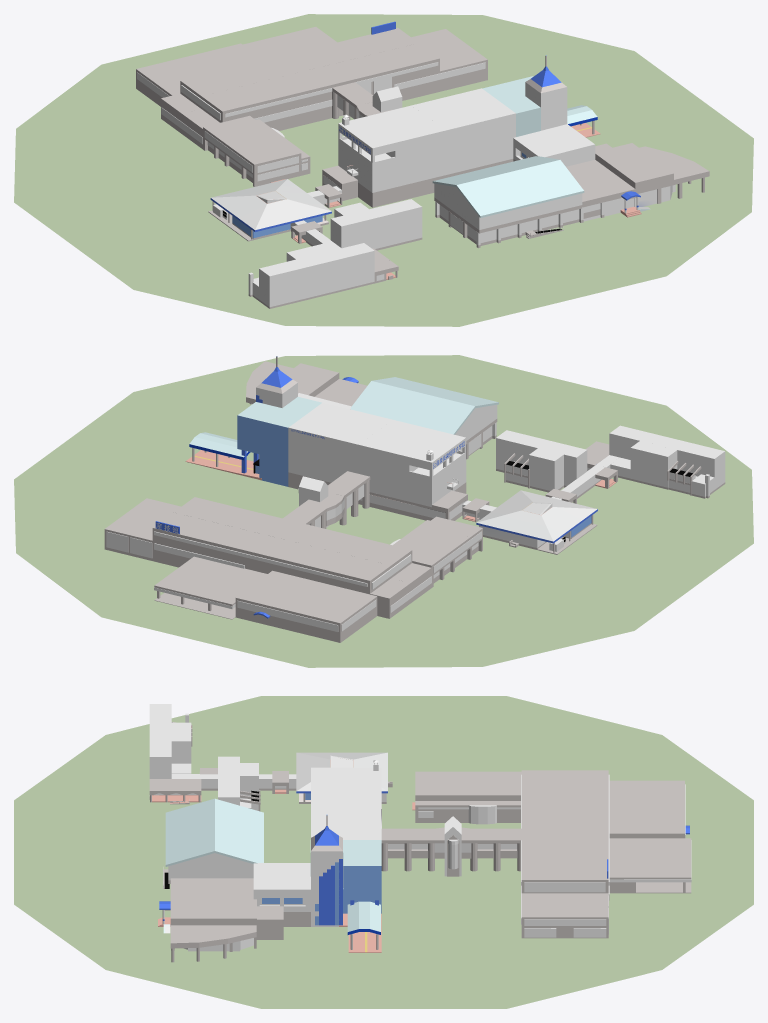
Rendered from sample_12_20.glb.
3 views of the same model, one above another, from view 1: azimuth 30°, elevation 25°; view 2: azimuth 150°, elevation 25°; view 3: azimuth 270°, elevation 25° (orthographic). The views are drawn at different scales.
Visible parts, largest first — view 1: 平面.006, 体育館屋根, 立方体.031, 学生寮・男子, 立方体, 立方体.001, 学生寮・女子, 立方体.027, 食堂・屋根・土台, 立方体.021, 本校舎2F・土台.001, 立方体.003 (+21 smaller); view 2: 平面.006, 立方体.003, 体育館屋根, 立方体.021, 立方体.002, 立方体.026, 本校者・紺の部分, 立方体, 学生寮・女子, 食堂・屋根・土台, 立方体.031, 立方体.001 (+25 smaller); view 3: 平面.006, 体育館屋根, 立方体.001, 立方体.003, 立方体.002, 立方体.018, 立方体.019, 立方体.027, 立方体.026, 大教室, 本校者・紺の部分, 立方体.031 (+25 smaller).
Part boxes in pixels (x1=…): 平面.006: x1=14, y1=14, x2=753, y2=326; 体育館屋根: x1=432, y1=156, x2=584, y2=217; 立方体.031: x1=182, y1=69, x2=332, y2=149; 学生寮・男子: x1=259, y1=243, x2=374, y2=308; 立方体: x1=338, y1=134, x2=445, y2=192; 立方体.001: x1=203, y1=115, x2=310, y2=186; 学生寮・女子: x1=330, y1=199, x2=422, y2=250; 立方体.027: x1=312, y1=43, x2=439, y2=116; 食堂・屋根・土台: x1=210, y1=179, x2=331, y2=231; 立方体.021: x1=161, y1=54, x2=310, y2=133; 本校舎2F・土台.001: x1=445, y1=113, x2=515, y2=174; 立方体.003: x1=136, y1=43, x2=263, y2=106; 平面.006: x1=14, y1=355, x2=753, y2=667; 立方体.003: x1=235, y1=570, x2=377, y2=642; 体育館屋根: x1=350, y1=377, x2=498, y2=434; 立方体.021: x1=260, y1=538, x2=410, y2=618; 立方体.002: x1=154, y1=556, x2=267, y2=619; 立方体.026: x1=152, y1=512, x2=280, y2=571; 本校者・紺の部分: x1=237, y1=397, x2=321, y2=486; 立方体: x1=358, y1=448, x2=466, y2=507; 学生寮・女子: x1=496, y1=430, x2=587, y2=492; 食堂・屋根・土台: x1=476, y1=490, x2=597, y2=543; 立方体.031: x1=281, y1=523, x2=431, y2=602; 立方体.001: x1=393, y1=516, x2=482, y2=587; 平面.006: x1=14, y1=696, x2=753, y2=1008; 体育館屋根: x1=165, y1=798, x2=263, y2=866; 立方体.001: x1=415, y1=771, x2=521, y2=822; 立方体.003: x1=609, y1=780, x2=684, y2=838; 立方体.002: x1=609, y1=838, x2=691, y2=893; 立方体.018: x1=521, y1=893, x2=608, y2=938; 立方体.019: x1=311, y1=767, x2=381, y2=804; 立方体.027: x1=521, y1=825, x2=564, y2=893; 立方体.026: x1=565, y1=825, x2=608, y2=893; 大教室: x1=253, y1=863, x2=310, y2=911; 本校者・紺の部分: x1=310, y1=840, x2=381, y2=913; 立方体.031: x1=521, y1=770, x2=564, y2=825.
Bounding box in the file's own units: 52.15 × 8.2 × 52.15.
Materials: 5 (3 with a texture image).
